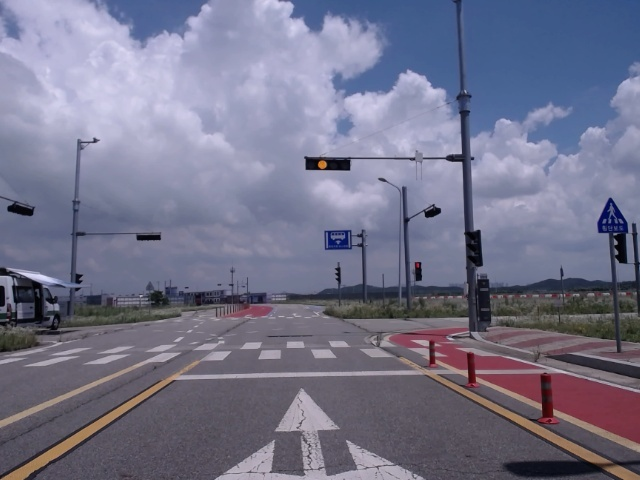orange_4: (302, 157, 352, 170)
